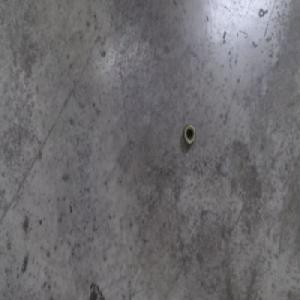Nut: (183, 123, 196, 147)
